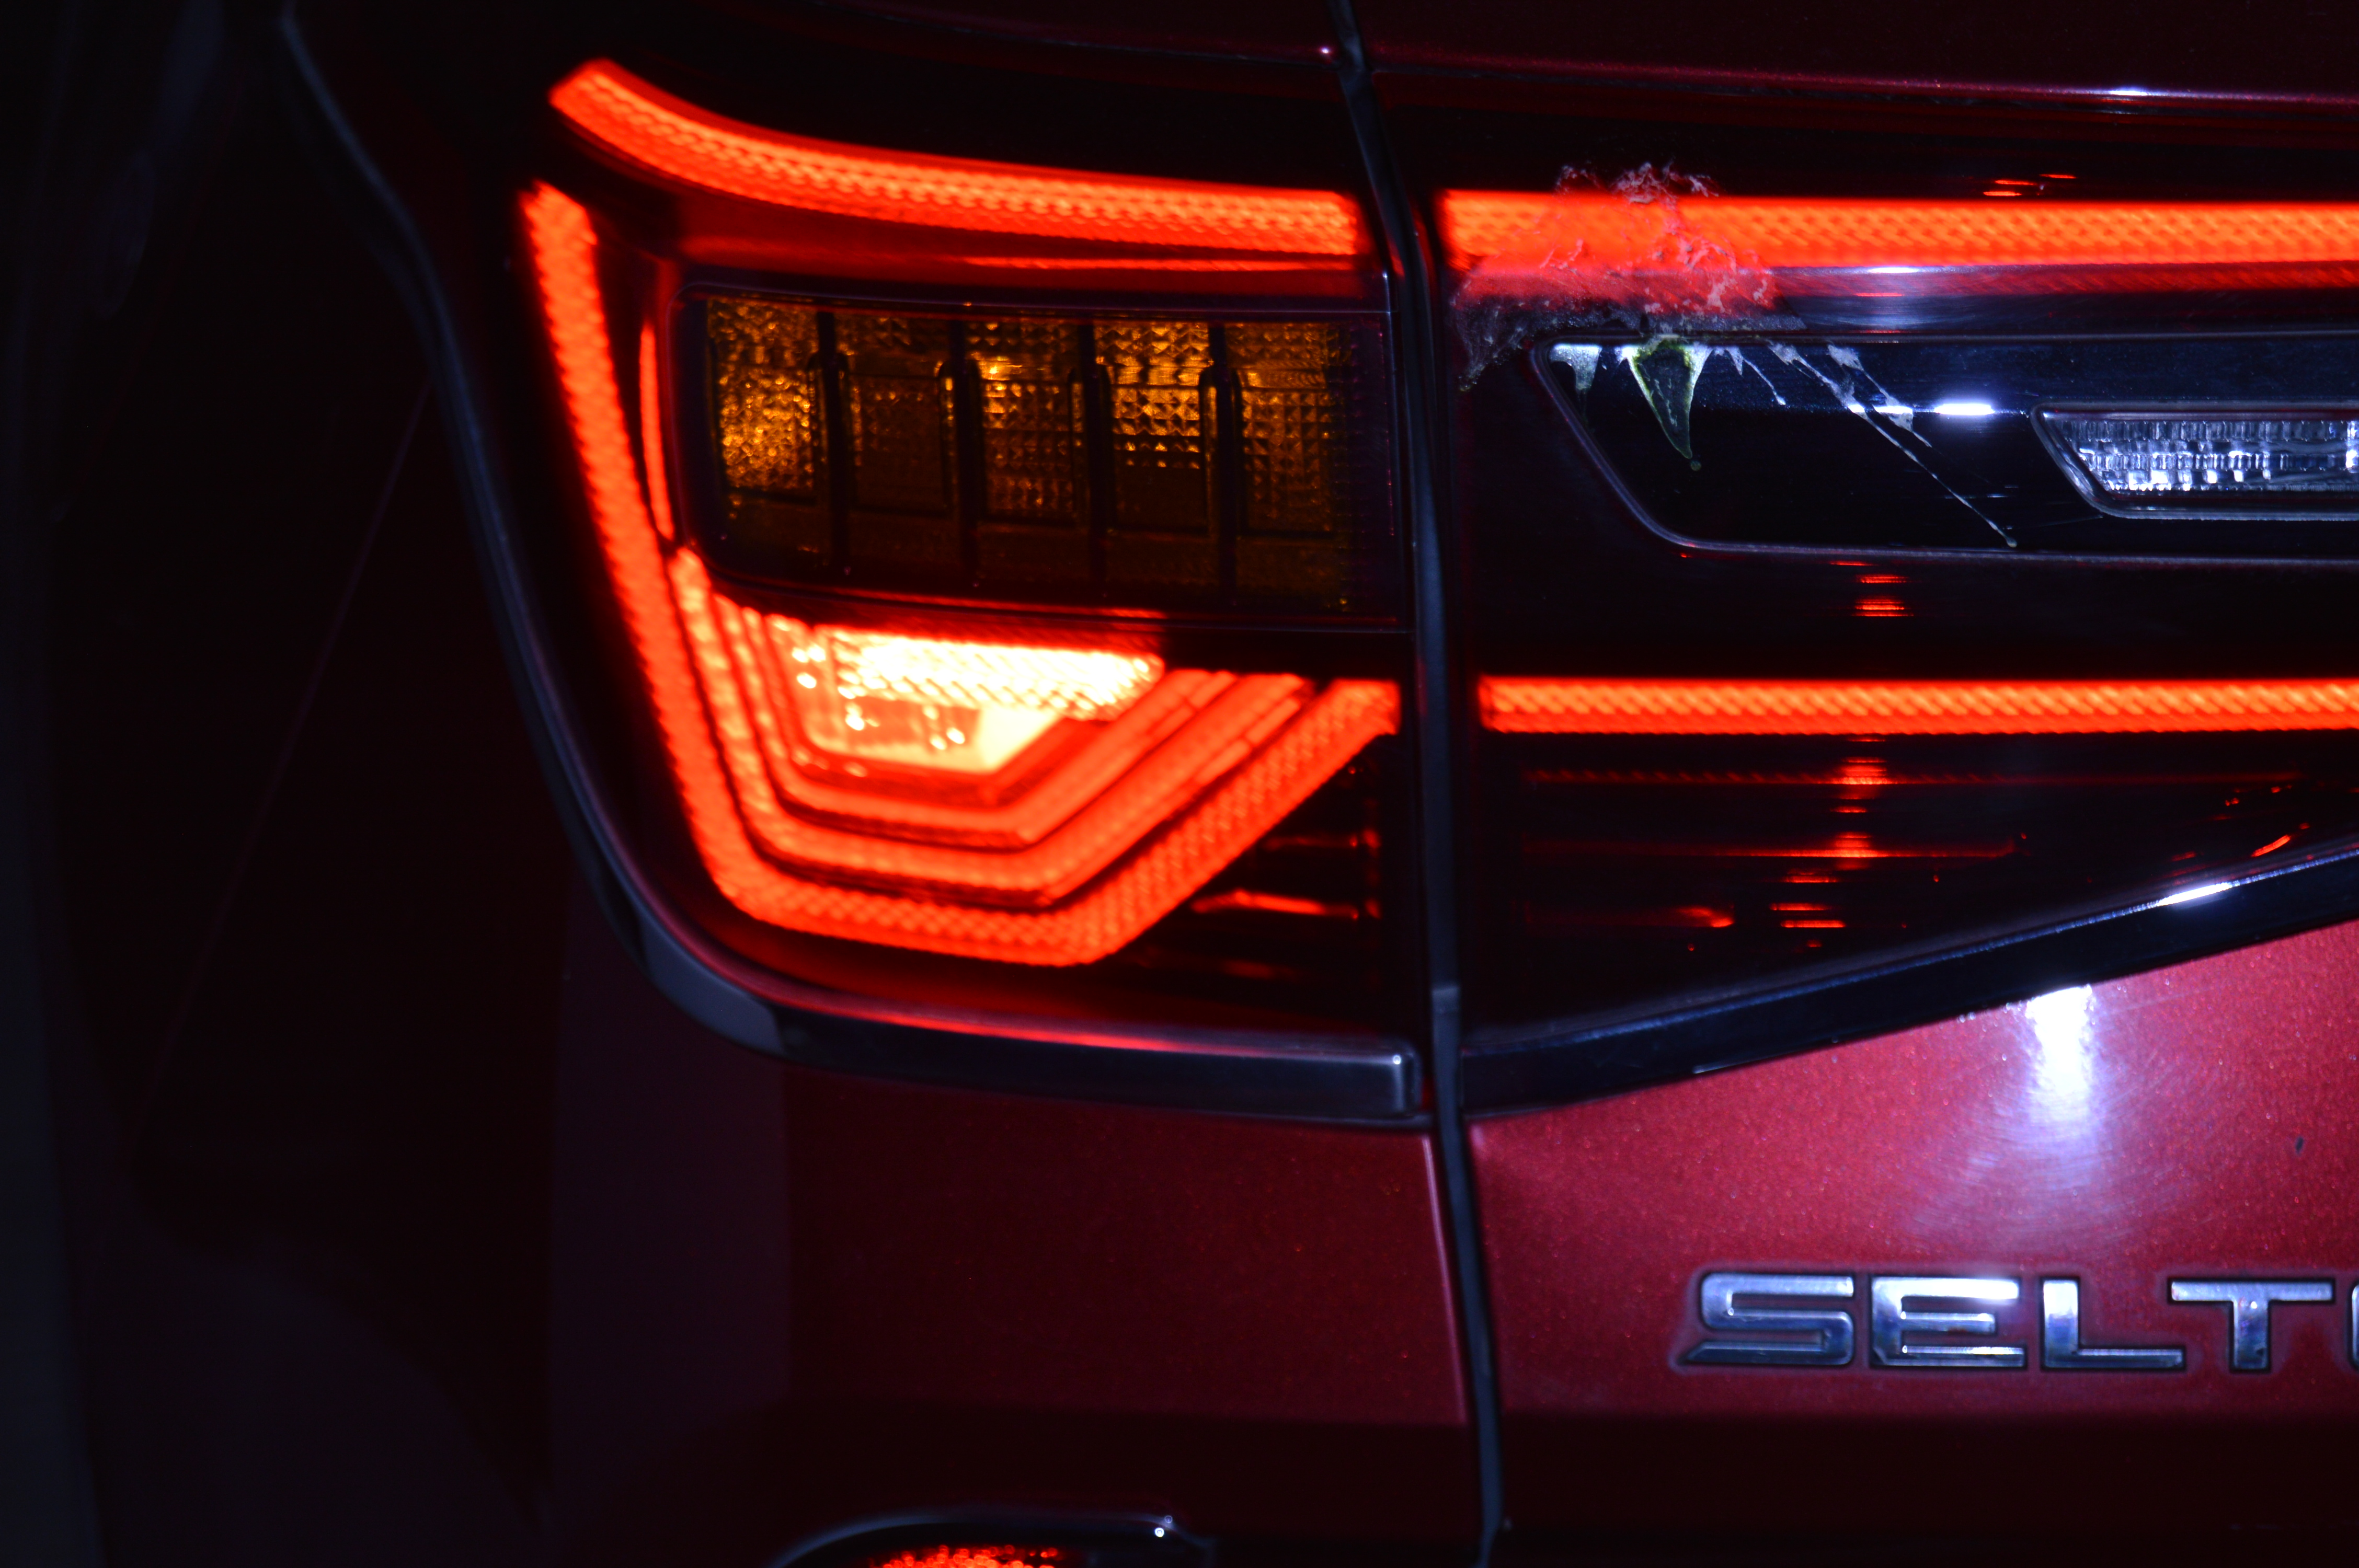Glare: (789, 619, 1136, 784)
